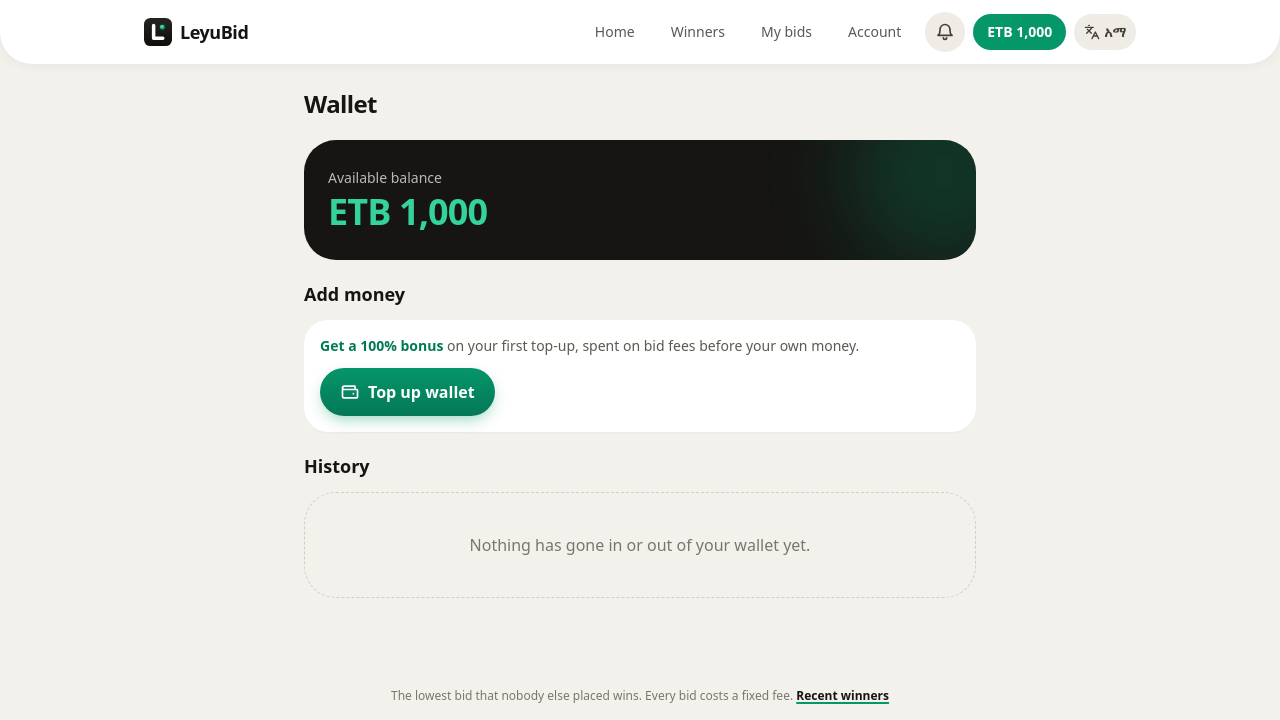
adding money on the wallet page › does not ask the server for
Click the button "Top up wallet" at (407, 392), box [320,368,495,416]
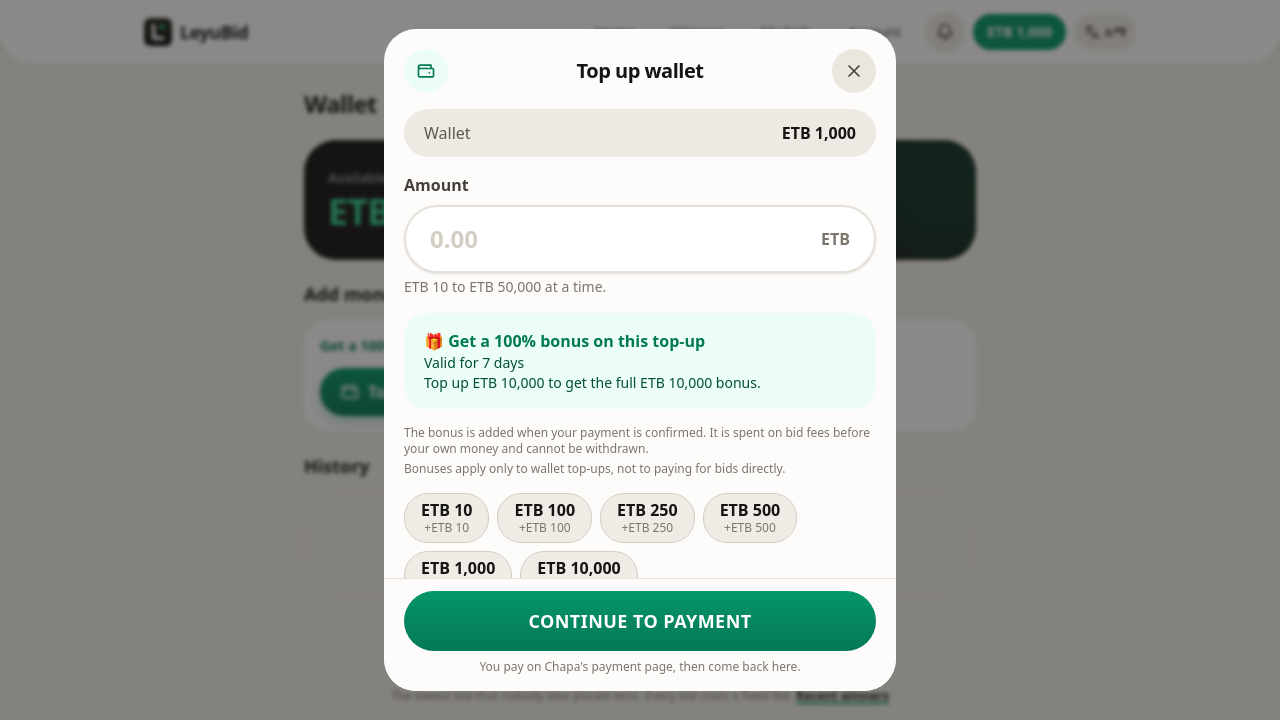
Clear the field labelled "Amount" at (622, 239), box [430,207,813,271]
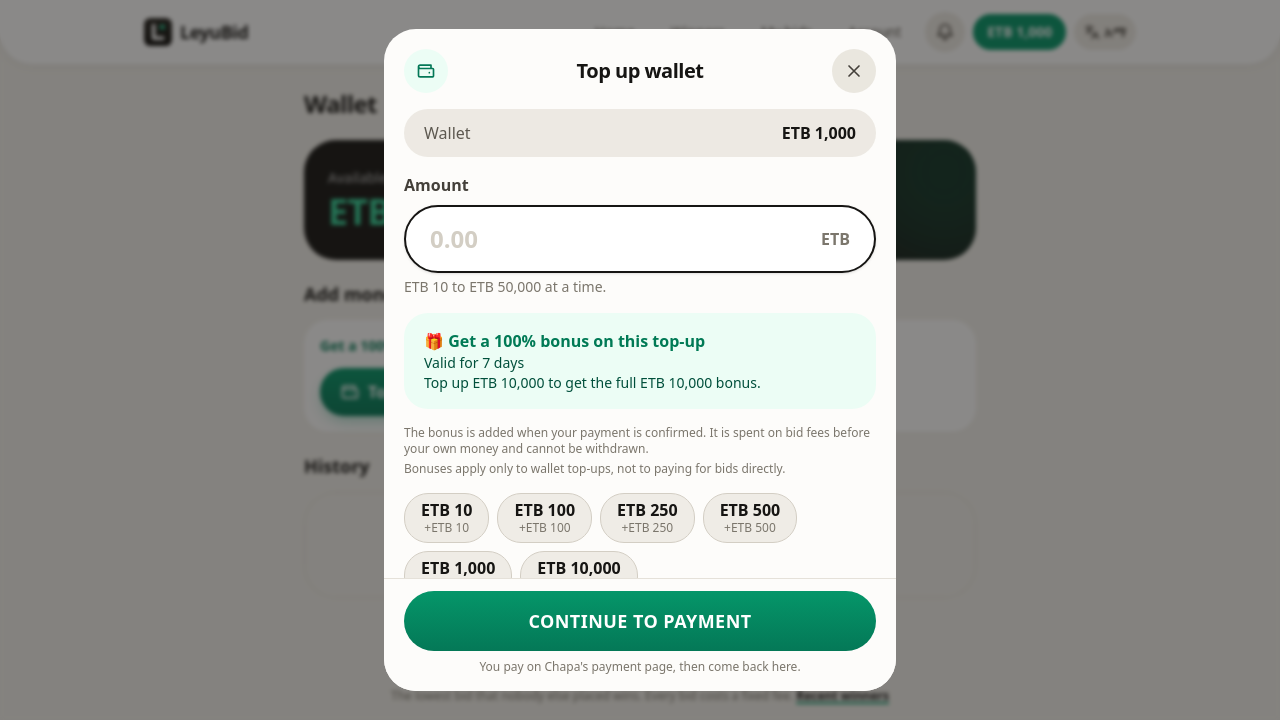
Click the button "Continue to payment" at (640, 621), box [404,591,876,651]
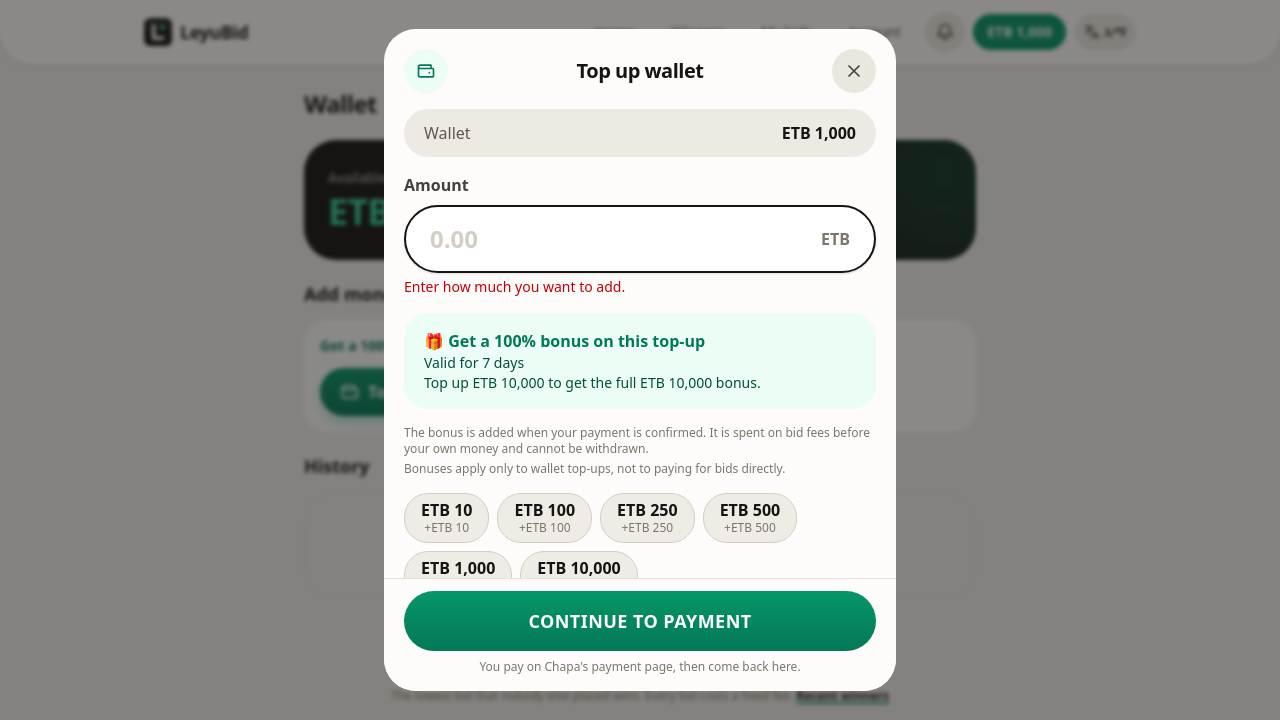
Expected: the text "Enter how much you want to add." is shown, [404,277,625,296]
